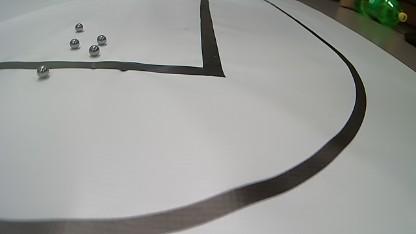ironball: (36, 65, 49, 78), (88, 45, 100, 56), (69, 38, 79, 49), (96, 34, 106, 45), (75, 23, 83, 32)
